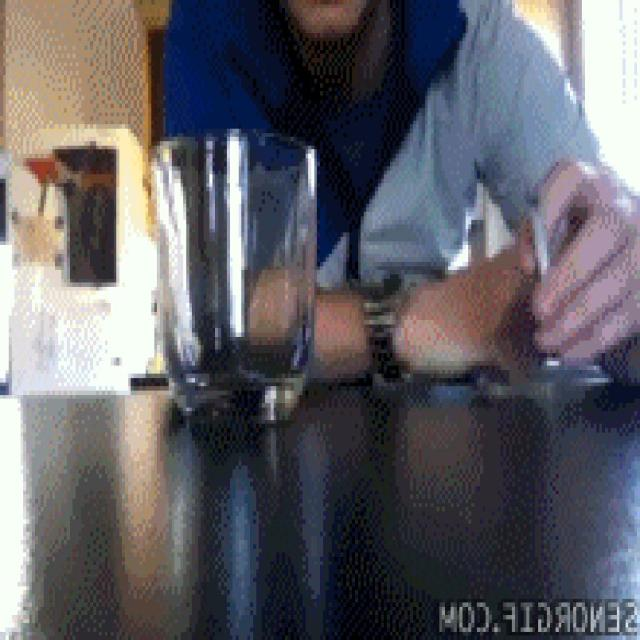smoking: (478, 182, 588, 437)
